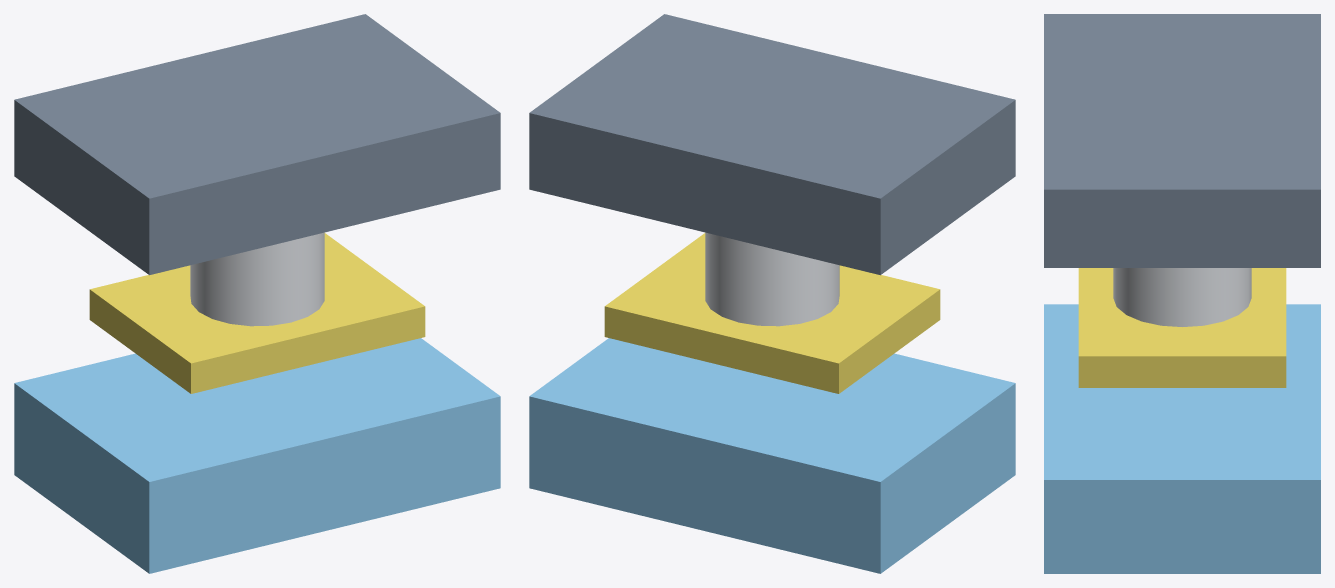
The model's file is press_tool_die_design.glb.
3 renders of one model, left to right at view 1: azimuth 30°, elevation 25°; view 2: azimuth 150°, elevation 25°; view 3: azimuth 270°, elevation 25°, orthographic. The views are drawn at different scales.
Parts seen in each view (by area): view 1: HeavyDieSetUpperPunchShoe, ToolSteelDiePlateBlock, SpringLoadedStripperPlate, HardenedToolSteelBlankingPunch; view 2: HeavyDieSetUpperPunchShoe, ToolSteelDiePlateBlock, SpringLoadedStripperPlate, HardenedToolSteelBlankingPunch; view 3: HeavyDieSetUpperPunchShoe, ToolSteelDiePlateBlock, SpringLoadedStripperPlate, HardenedToolSteelBlankingPunch.
Part boxes in pixels (box(x1,y1,x2,y2)): HeavyDieSetUpperPunchShoe: box(14, 14, 500, 275); ToolSteelDiePlateBlock: box(14, 338, 500, 573); SpringLoadedStripperPlate: box(89, 233, 425, 393); HardenedToolSteelBlankingPunch: box(190, 232, 324, 326); HeavyDieSetUpperPunchShoe: box(529, 14, 1015, 275); ToolSteelDiePlateBlock: box(529, 338, 1015, 573); SpringLoadedStripperPlate: box(604, 233, 940, 393); HardenedToolSteelBlankingPunch: box(705, 232, 839, 326); HeavyDieSetUpperPunchShoe: box(1044, 14, 1320, 267); ToolSteelDiePlateBlock: box(1044, 304, 1320, 573); SpringLoadedStripperPlate: box(1078, 268, 1286, 387); HardenedToolSteelBlankingPunch: box(1113, 268, 1251, 326).
Bounding box in the file's own units: 1.2 × 1.23 × 0.8.
